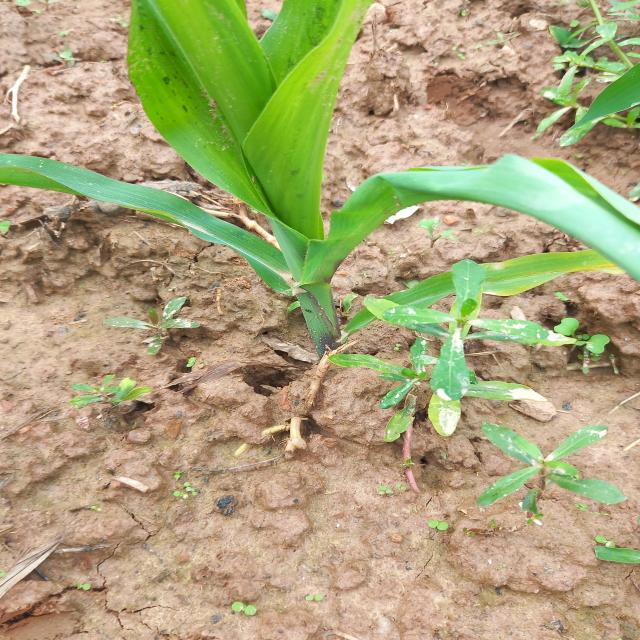maize: (0, 0, 640, 337)
weed: (364, 262, 557, 428), (481, 420, 640, 517), (537, 0, 640, 145), (106, 288, 200, 355), (48, 369, 167, 416), (228, 593, 264, 618), (595, 530, 624, 548), (422, 517, 449, 532), (301, 592, 328, 602)
